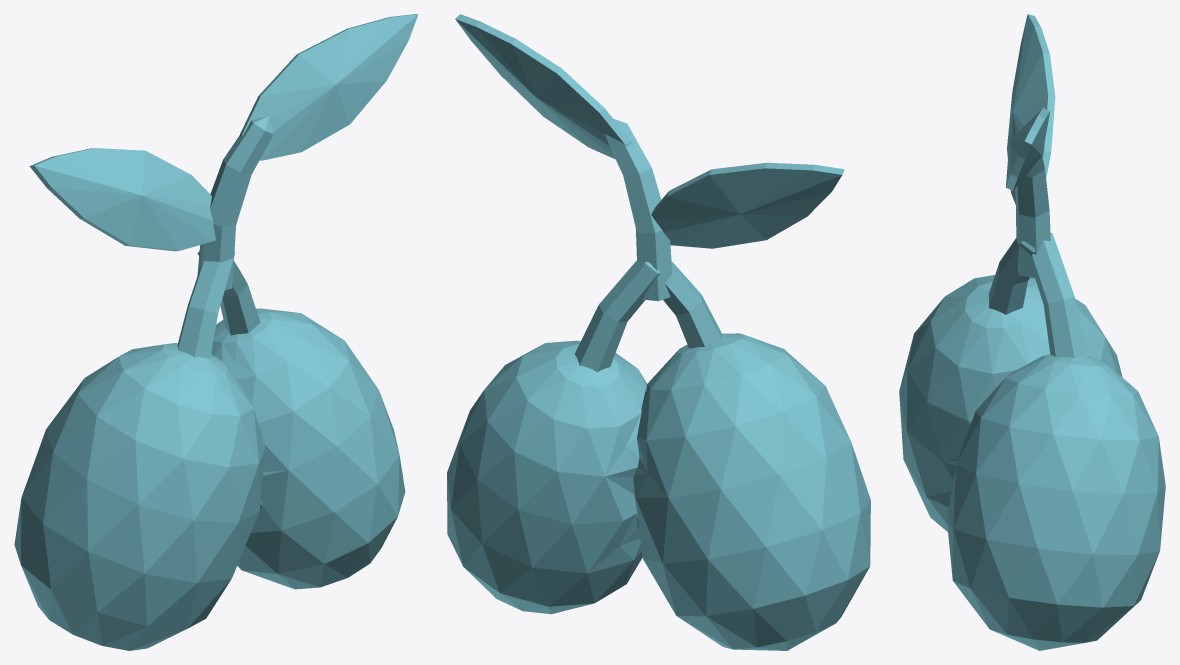
The model's file is Glass_Crop.glb.
3 renders of one model, left to right at view 1: azimuth 30°, elevation 25°; view 2: azimuth 150°, elevation 25°; view 3: azimuth 270°, elevation 25°, orthographic.
Visible parts, largest first — view 1: Glass_Crop; view 2: Glass_Crop; view 3: Glass_Crop.
Boxes of the visible parts, <box> form: Glass_Crop: <box>14,14,418,650</box>; Glass_Crop: <box>447,14,870,650</box>; Glass_Crop: <box>899,14,1165,650</box>.
Size of the model in its own units: 0.6406 by 0.86 by 0.3774.
